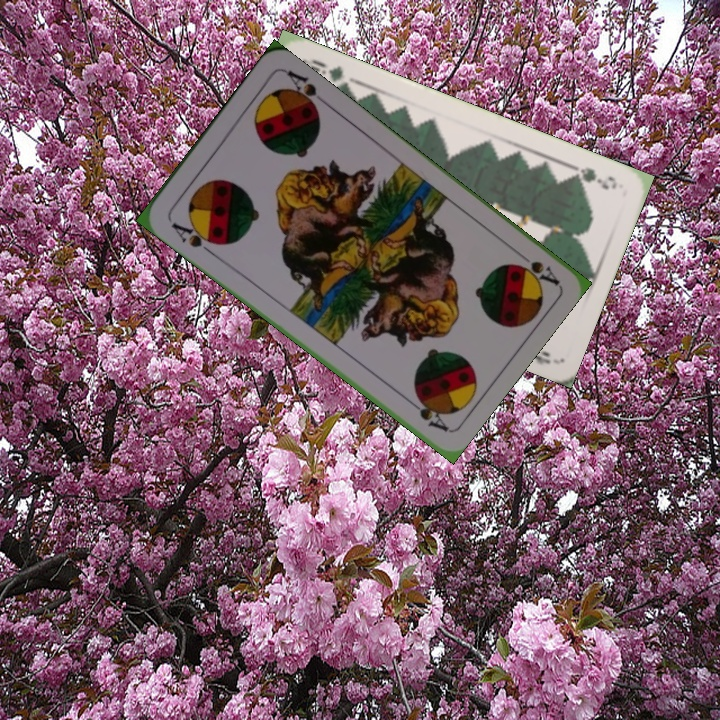G9: (566, 160, 620, 193)
SA: (167, 218, 222, 258), (511, 244, 561, 287)
